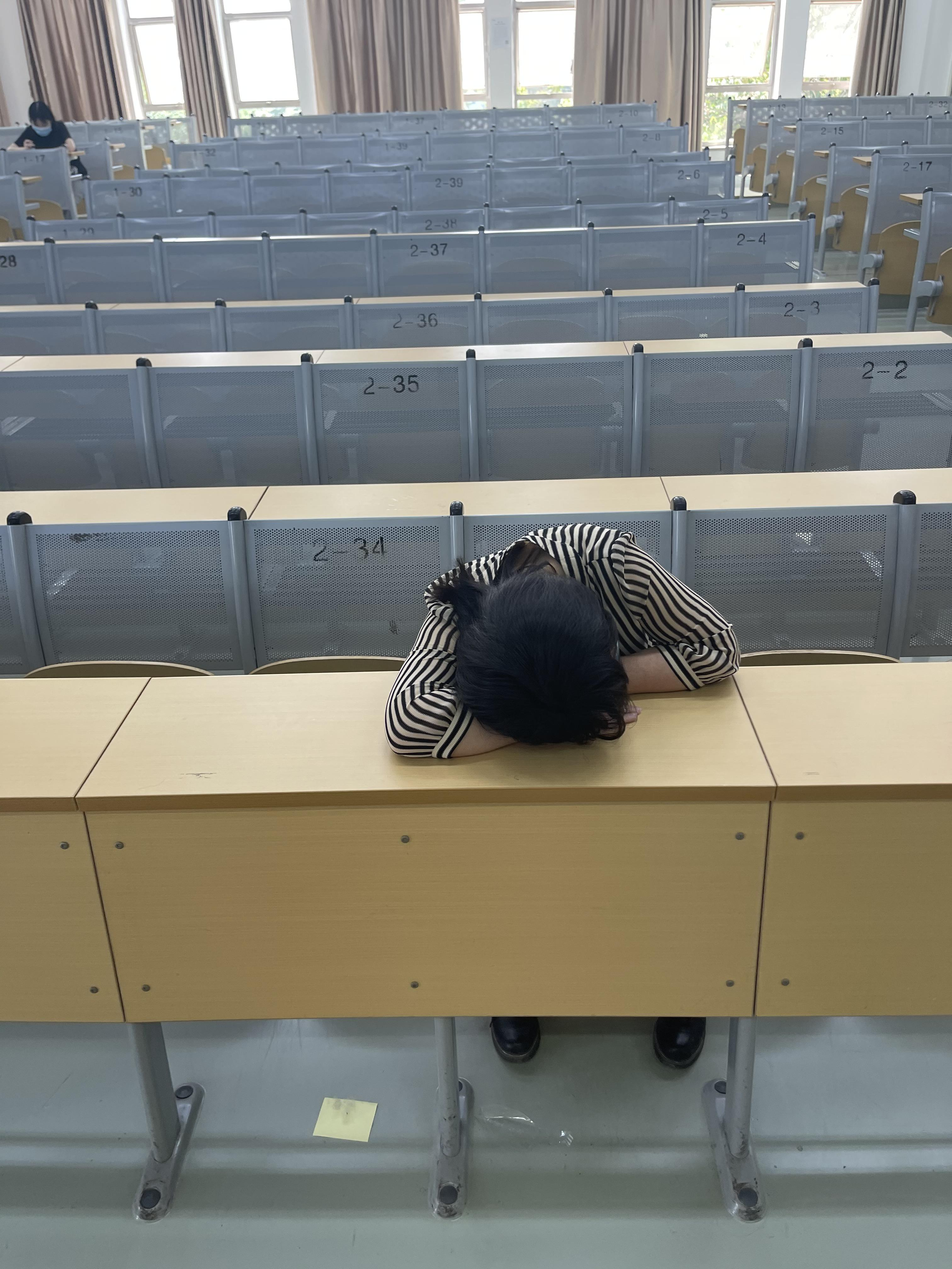sleep: (383, 523, 740, 764)
